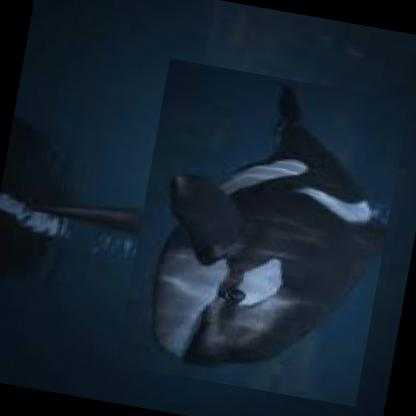killer_whale: (116, 56, 410, 406)
